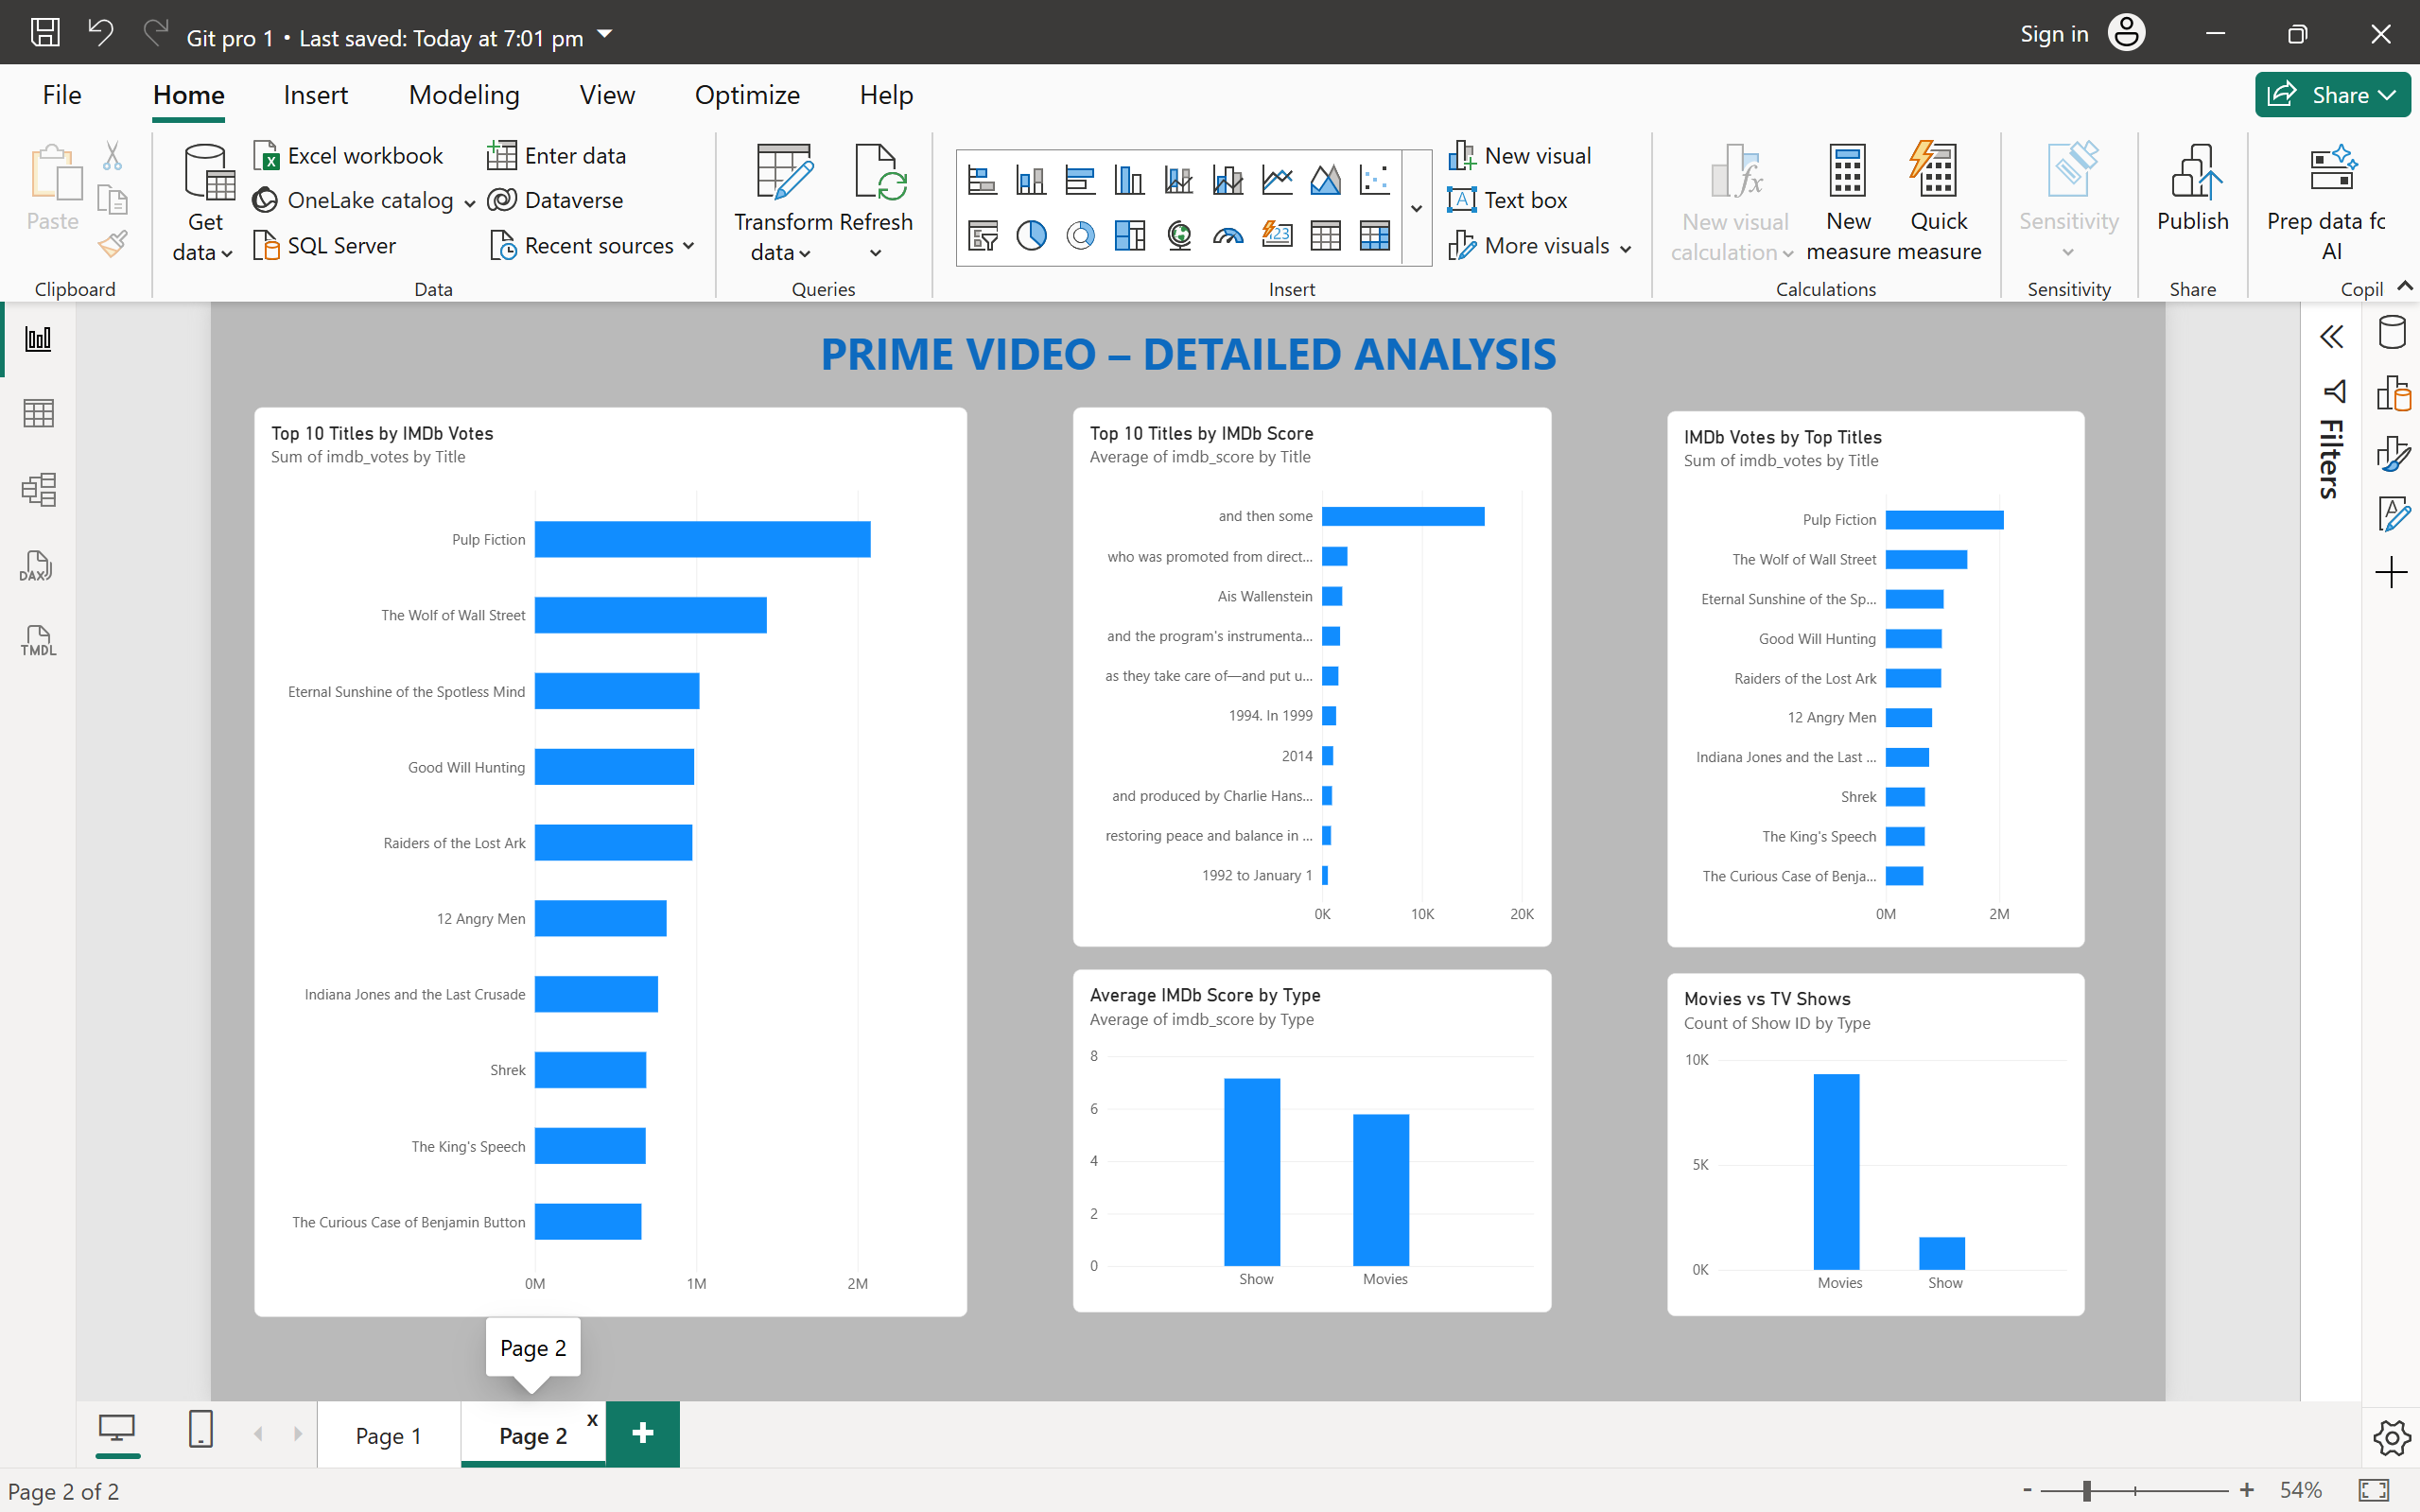

The dashboard page shown, as its layout file describes it:
{"tool":"powerbi","page":{"name":"Page 2","canvas":[1920,1080],"ordinal":1},"visuals":[{"type":"clusteredColumnChart","title":"Movies vs TV Shows","fields":{"Category":["Prime Video.Type"],"Y":["CountNonNull(Prime Video.Show ID)"]},"box":[1430,660,410,336.7],"z":0},{"type":"clusteredBarChart","title":"Top 10 Titles by IMDb Score","fields":{"Category":["Prime Video.Title"],"Y":["Avg(Prime Video.imdb_score)"]},"box":[846.7,103.3,470,530],"z":1000},{"type":"clusteredBarChart","title":"Top 10 Titles by IMDb Votes","fields":{"Category":["Prime Video.Title"],"Y":["Sum(Prime Video.imdb_votes)"]},"box":[43.3,103.3,700,893.3],"z":2000},{"type":"clusteredColumnChart","title":"Average IMDb Score by Type","fields":{"Category":["Prime Video.Type"],"Y":["Avg(Prime Video.imdb_score)"]},"box":[846.7,656.7,470,336.7],"z":3000},{"type":"clusteredBarChart","title":"IMDb Votes by Top Titles","fields":{"Category":["Prime Video.Title"],"Y":["Sum(Prime Video.imdb_votes)"]},"box":[1430,106.7,410,526.7],"z":4000},{"type":"textbox","box":[0,20,1920,112.5],"z":5000}]}

Visuals, with their boxes on the page's 1920x1080 design canvas (x1, y1, x2, y2). These are canvas units, not pixel positions in the 2420x1512 screenshot, which may show the page scaled, cropped or inside an application window:
"Movies vs TV Shows" clusteredColumnChart: select_region(1430, 660, 1840, 997)
"Top 10 Titles by IMDb Score" clusteredBarChart: select_region(847, 103, 1317, 633)
"Top 10 Titles by IMDb Votes" clusteredBarChart: select_region(43, 103, 743, 997)
"Average IMDb Score by Type" clusteredColumnChart: select_region(847, 657, 1317, 993)
"IMDb Votes by Top Titles" clusteredBarChart: select_region(1430, 107, 1840, 633)
textbox: select_region(0, 20, 1920, 132)
